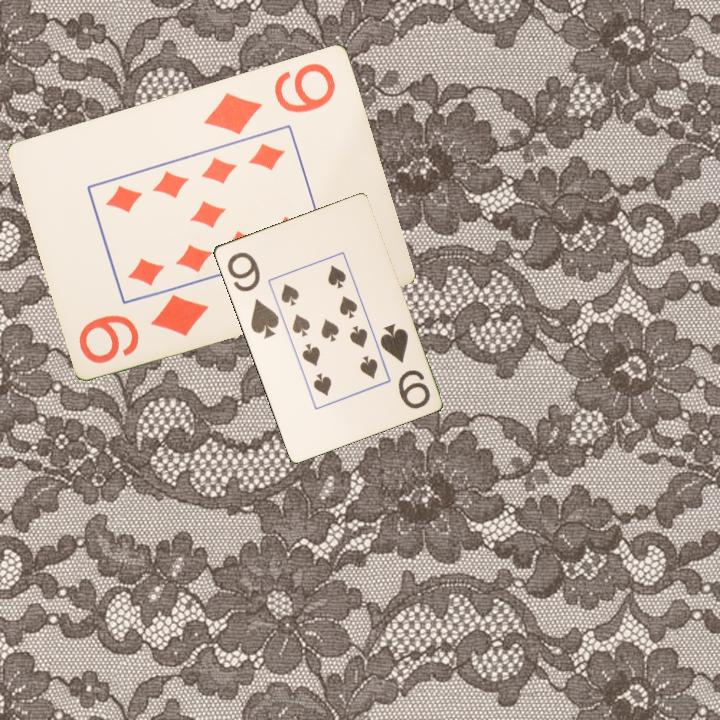9d: (200, 58, 339, 137), (75, 290, 212, 366)
9s: (223, 248, 282, 342), (376, 319, 433, 412)
